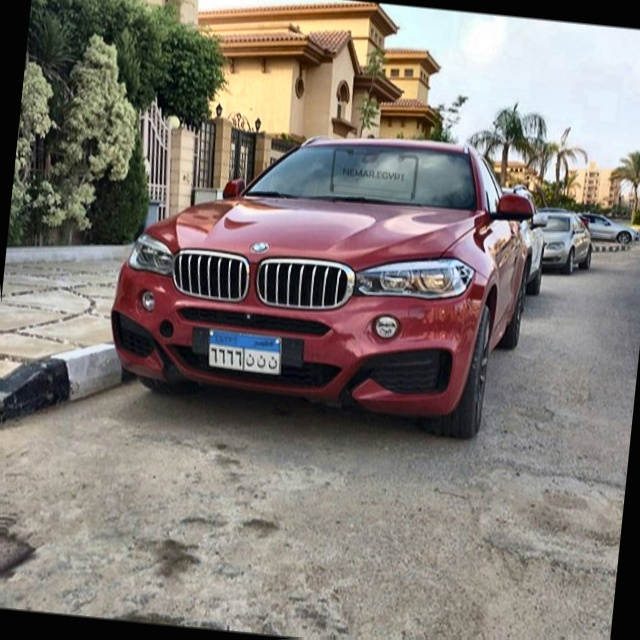License Plate: (201, 326, 287, 379)
